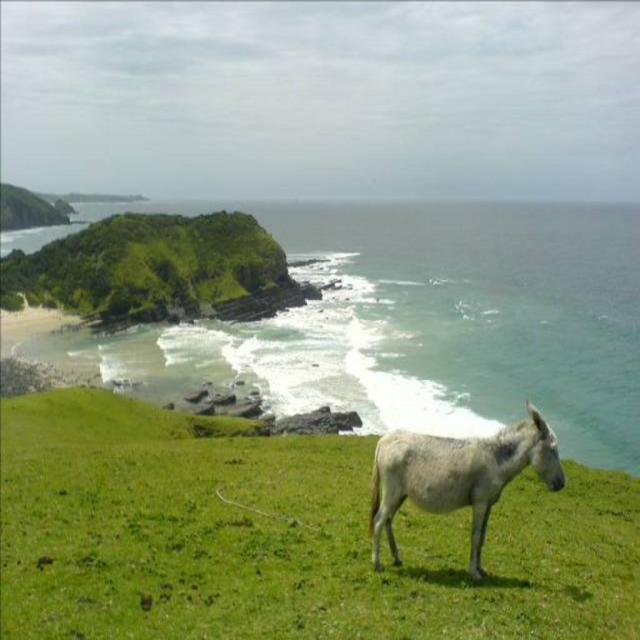Horse: (368, 397, 567, 583)
